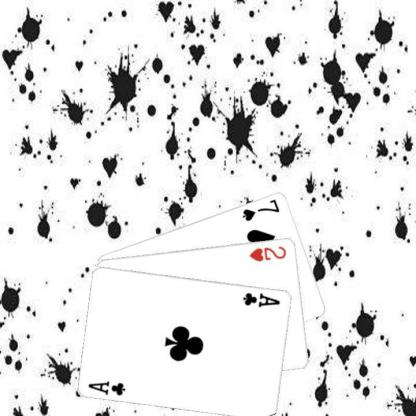2H: (247, 244, 288, 262)
7S: (240, 196, 281, 222)
AC: (241, 289, 281, 308), (86, 378, 127, 396)
